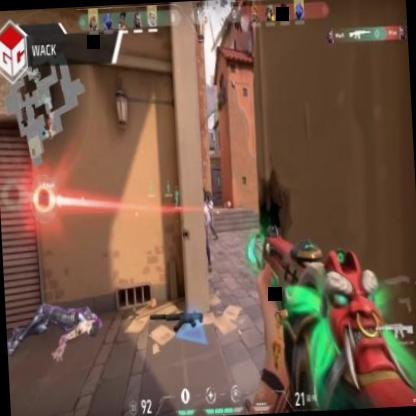enemy: (194, 185, 212, 267), (203, 191, 216, 242)
enemy_head: (197, 186, 205, 204), (204, 190, 212, 202)
